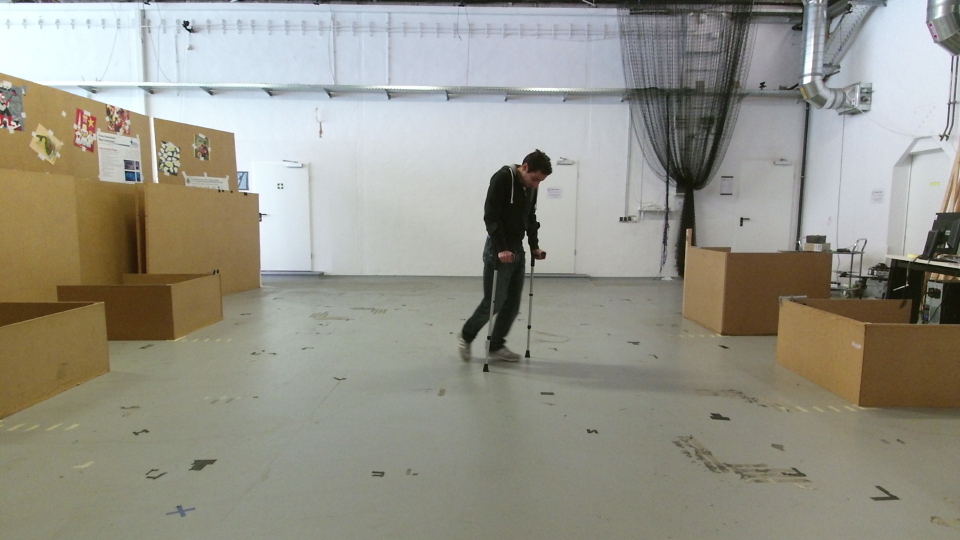crutches: (447, 146, 557, 376)
